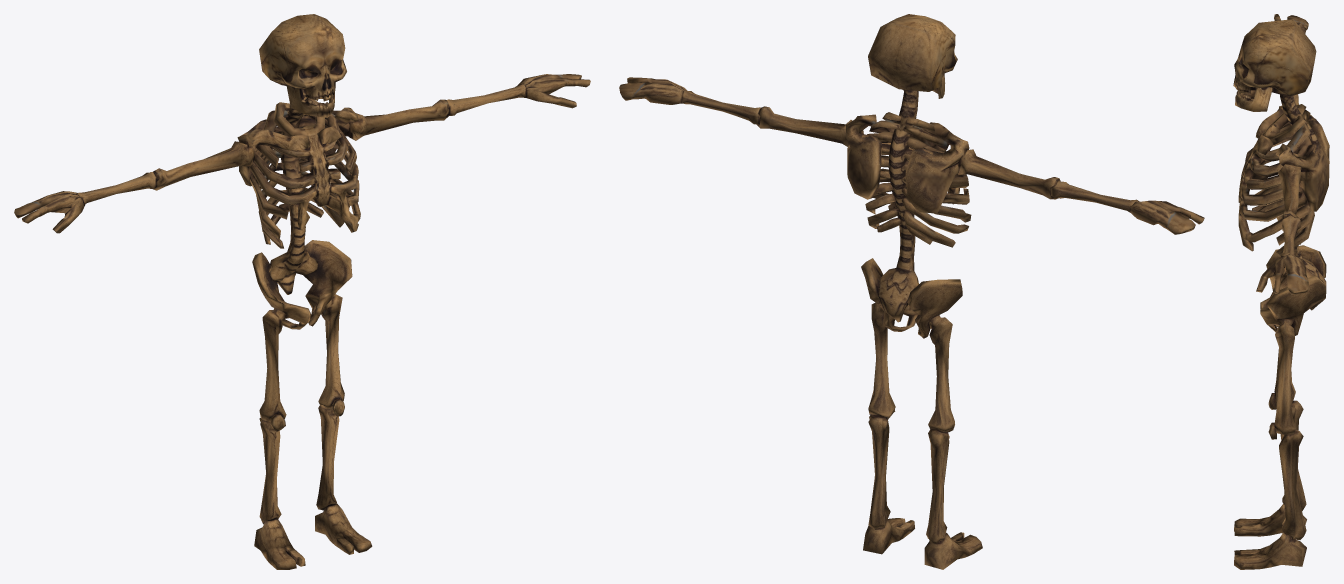
The model's file is SyntyMW_Bare.fbx.
3 views of the same model, side by side, from view 1: azimuth 30°, elevation 25°; view 2: azimuth 150°, elevation 25°; view 3: azimuth 270°, elevation 25° (orthographic).
Parts seen in each view (by area): view 1: Mesh_0; view 2: Mesh_0; view 3: Mesh_0.
Part boxes in pixels (x1,y1,x2,y2): Mesh_0: (14, 14, 590, 569); Mesh_0: (619, 14, 1204, 569); Mesh_0: (1233, 14, 1329, 569).
Size of the model in its own units: 200 by 176 by 29.38.
1 material, 1 textured.
